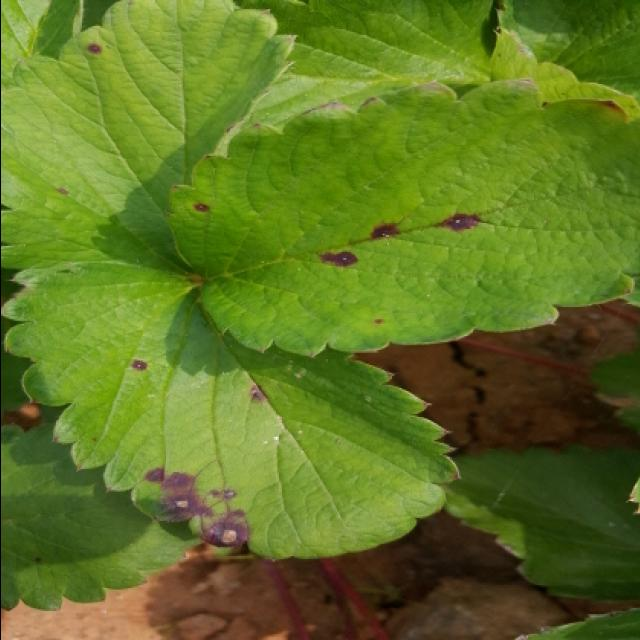Leaf Spot: (2, 261, 461, 564), (165, 77, 640, 361), (2, 0, 300, 277)
